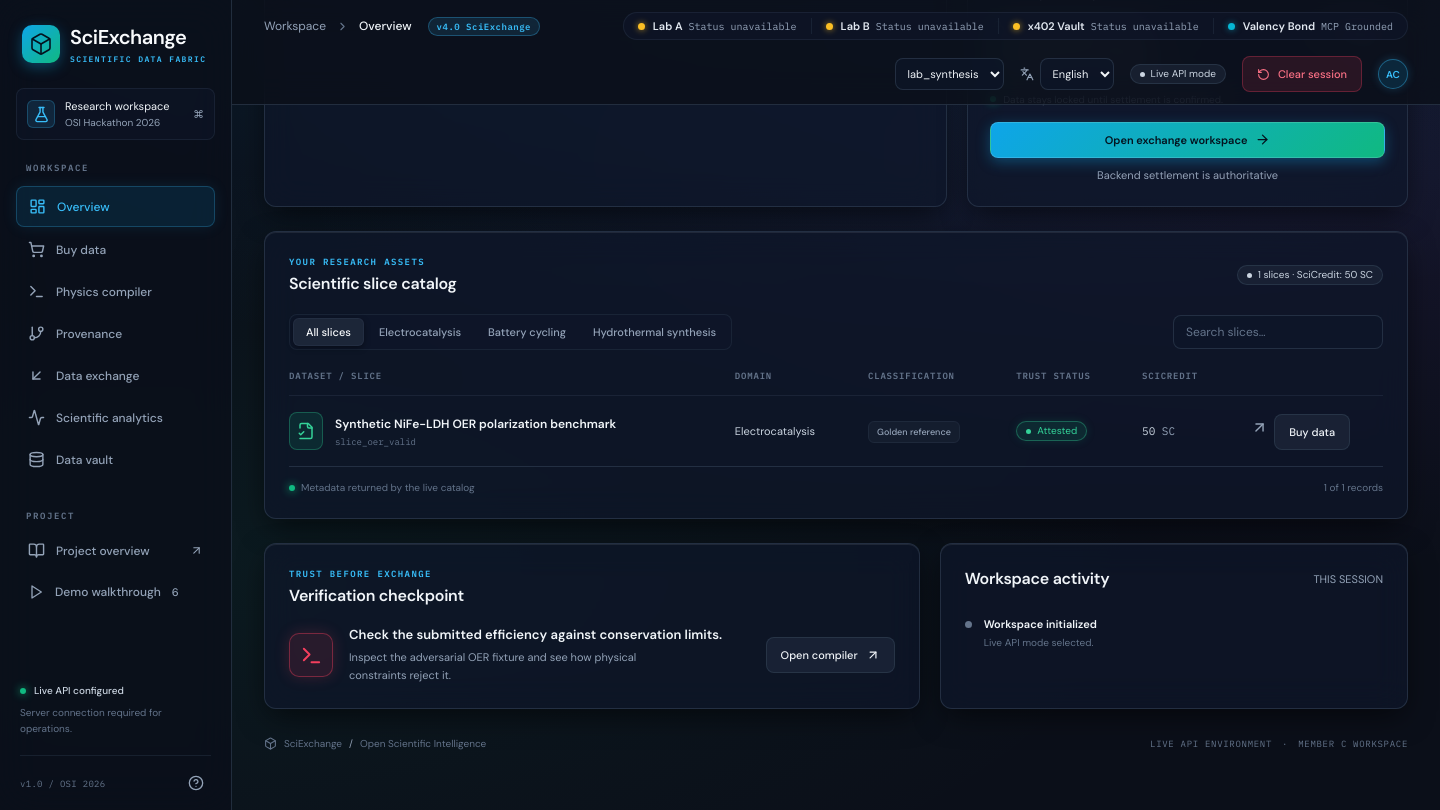
Test: confirmed writes survive interrupted delivery › reconciles the paid balance and ledger after download failure (wallet offline: false)
The width and height of the screenshot is (1440, 810).
(page scrolled)
Expected: the table is shown, [289,370,1383,466]
Click the button "Buy data" in the row of "slice_oer_valid" at (1312, 432), box [1274,414,1350,450]
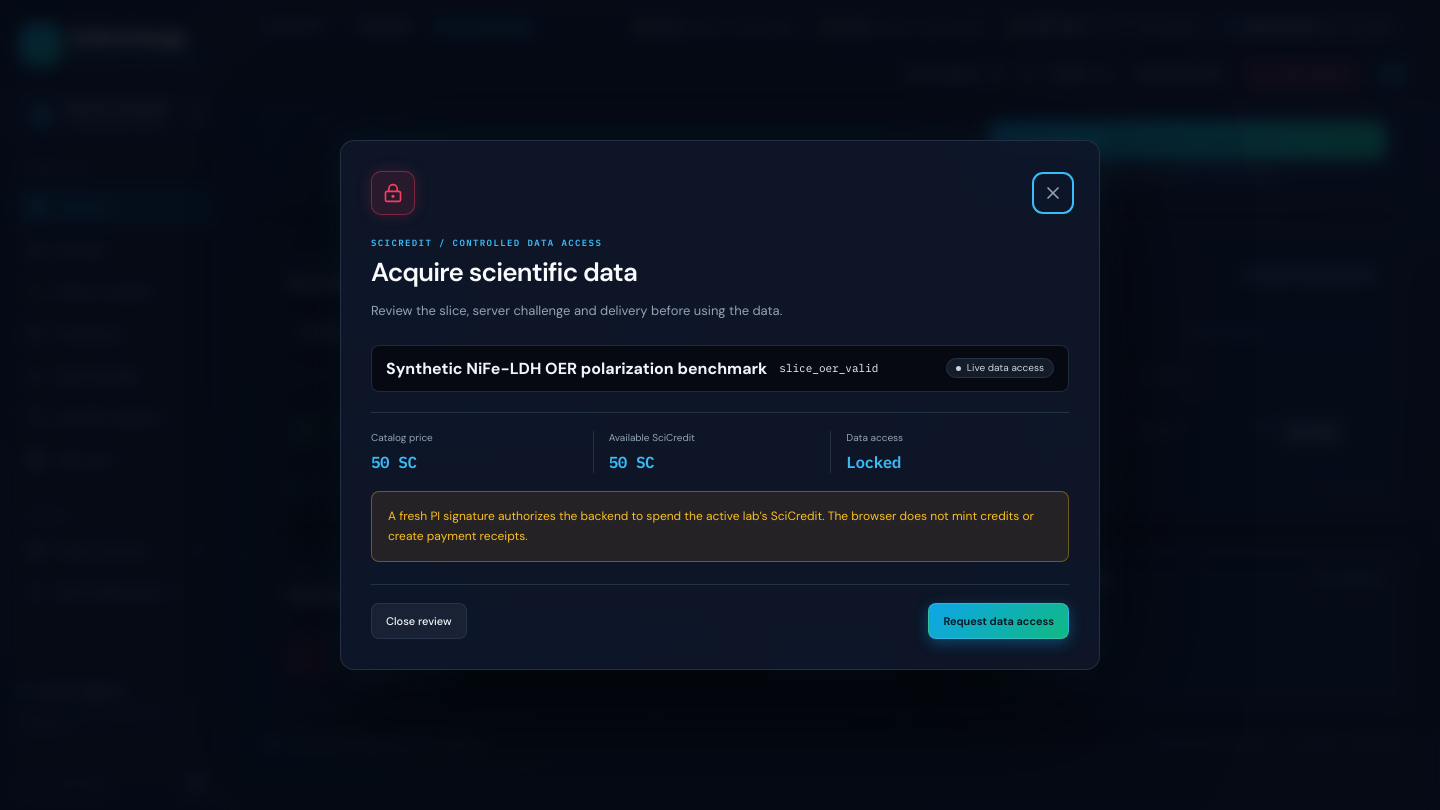
Click the button "Request data access" at (999, 621), box [928,603,1069,639]
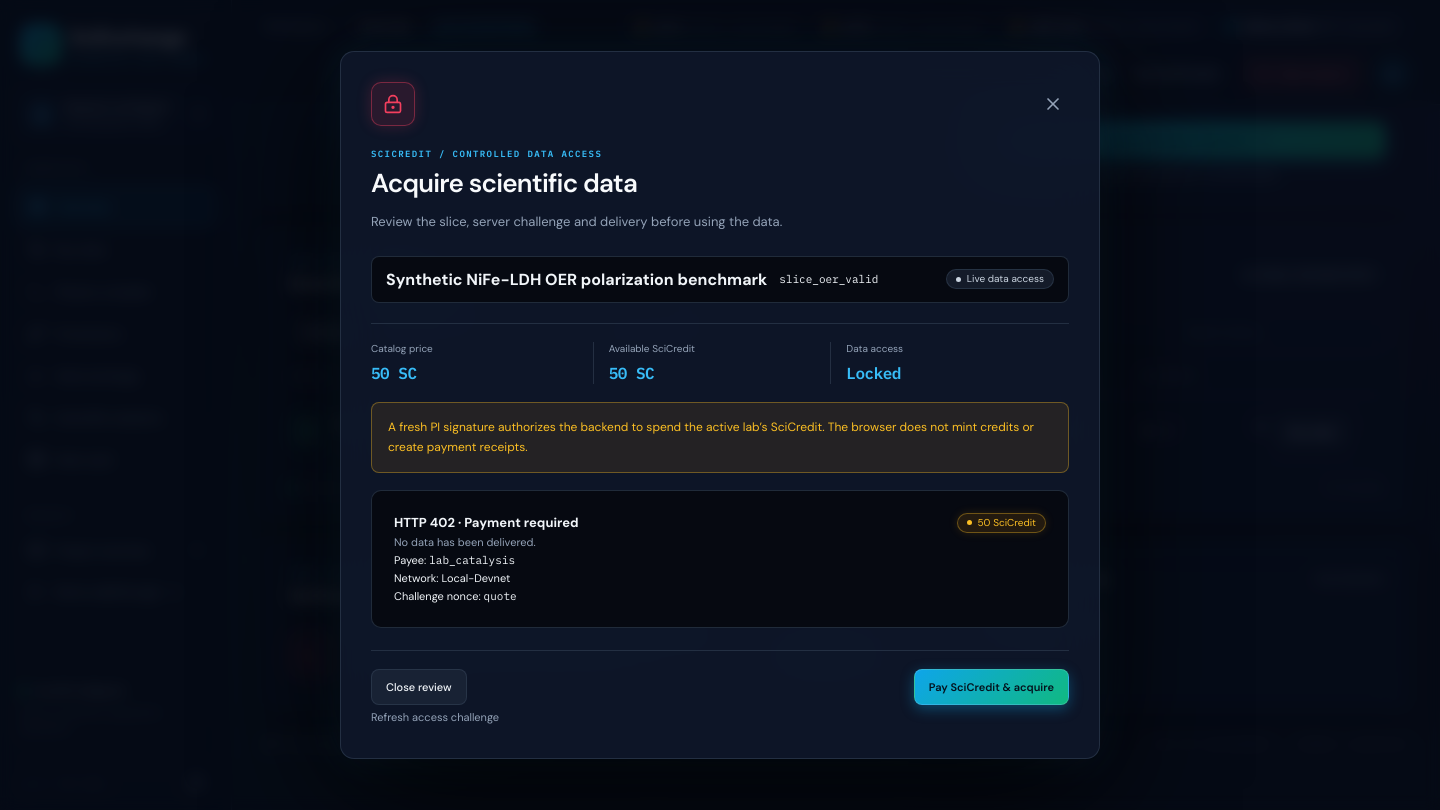
Click the button "Pay SciCredit & acquire" at (991, 687), box [914,669,1069,705]
(page scrolled)
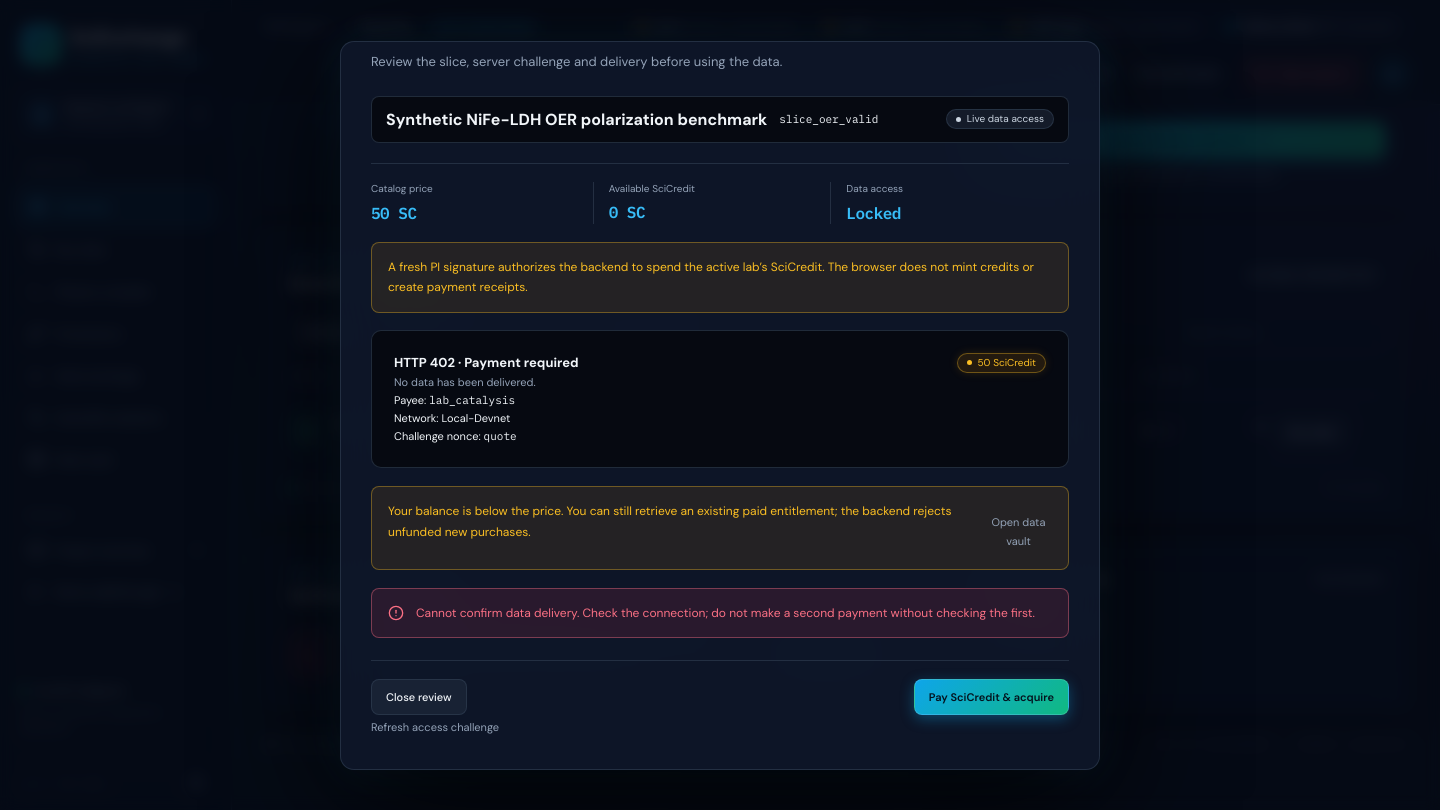
Expected: the text "Cannot confirm data delivery" is shown, [416,605,1035,621]
Click the button "Refresh access challenge" at (435, 727), box [371,716,499,738]
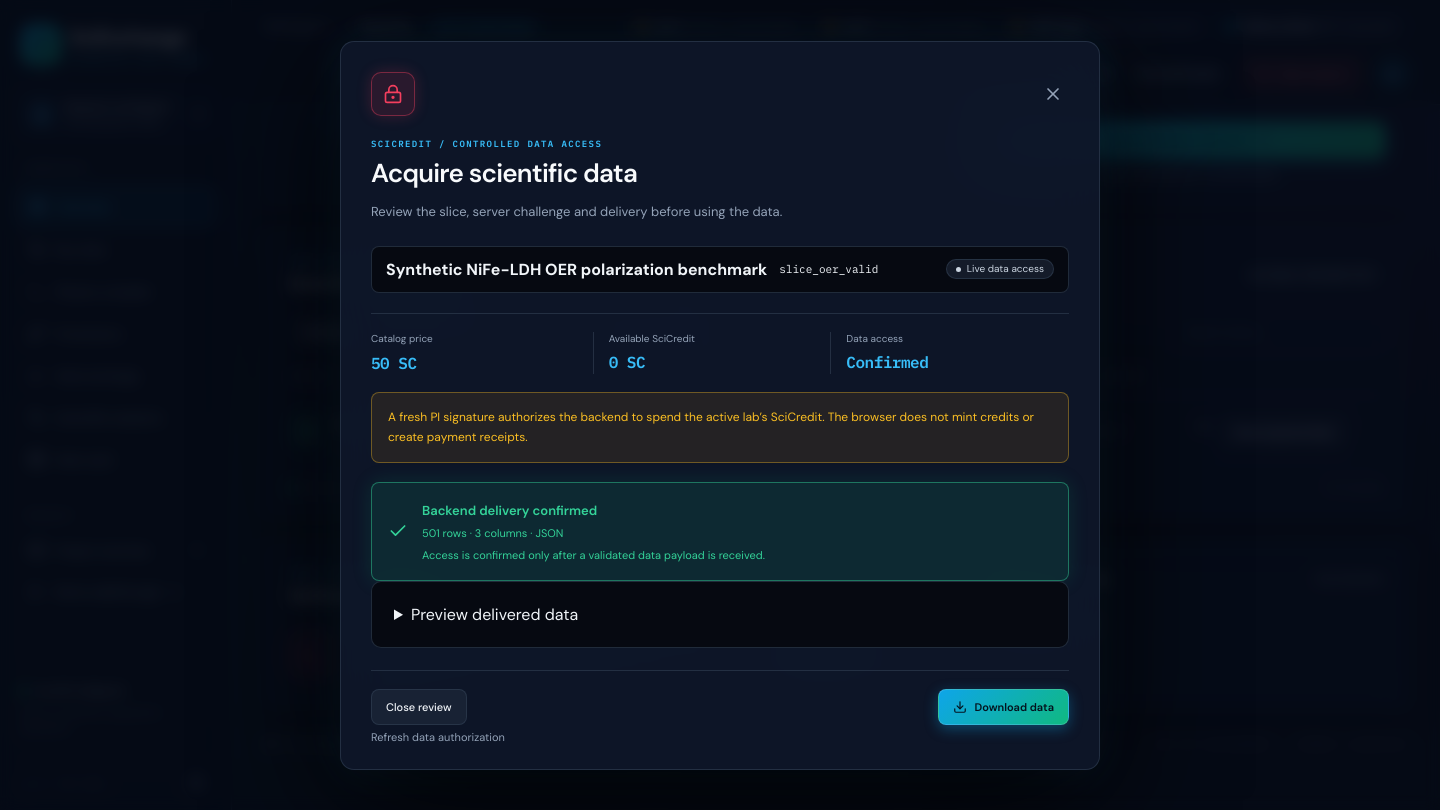
Expected: the text "Backend delivery confirmed" is shown, [422,502,597,519]
